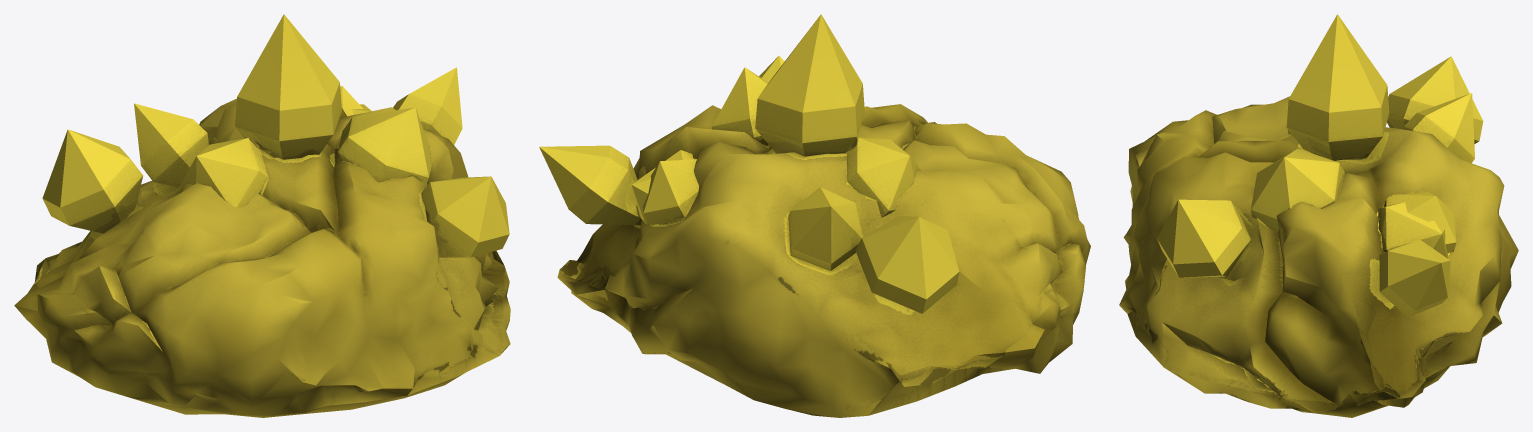
The model's file is mineral_azufre.fbx.
The picture shows the model from 3 angles, left to right: view 1: azimuth 30°, elevation 25°; view 2: azimuth 150°, elevation 25°; view 3: azimuth 270°, elevation 25°; orthographic projection. The views are drawn at different scales.
Parts seen in each view (by area): view 1: mineral_azufre; view 2: mineral_azufre; view 3: mineral_azufre.
Part boxes in pixels (x1=…): mineral_azufre: x1=14, y1=14, x2=510, y2=417; mineral_azufre: x1=539, y1=14, x2=1090, y2=417; mineral_azufre: x1=1119, y1=14, x2=1518, y2=417.
Size of the model in its own units: 2.15 by 1.4 by 1.64.
Materials: 1 (1 with a texture image).
